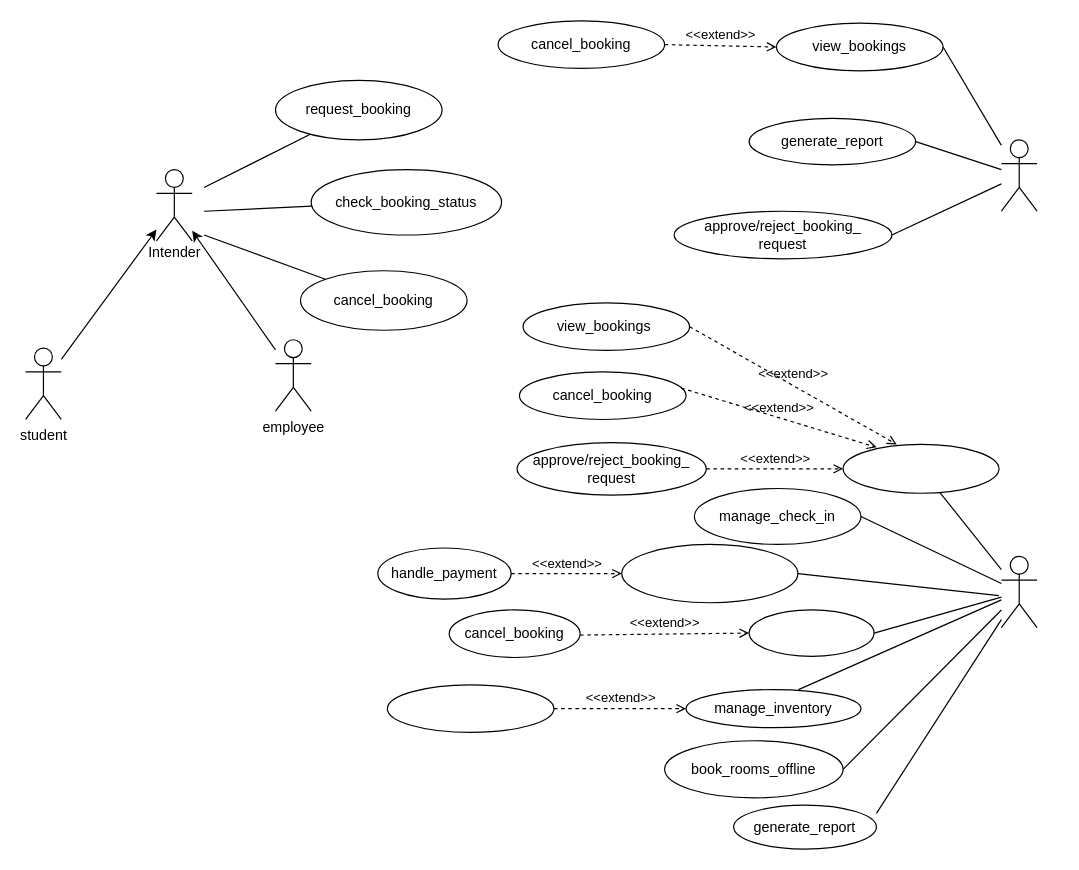
Image size: 1079x870. Some labels were removed from this diagram. Here are the shapes that lost their labels. From the top down, the box of each, then its label:
(1000, 139, 1037, 211): VH incharge
(842, 443, 999, 493): Manage_bookings
(621, 543, 798, 603): manage_check_out
(1000, 555, 1037, 628): VH Caretaker
(748, 609, 874, 656): book_meal
(386, 684, 554, 732): update_inventory
